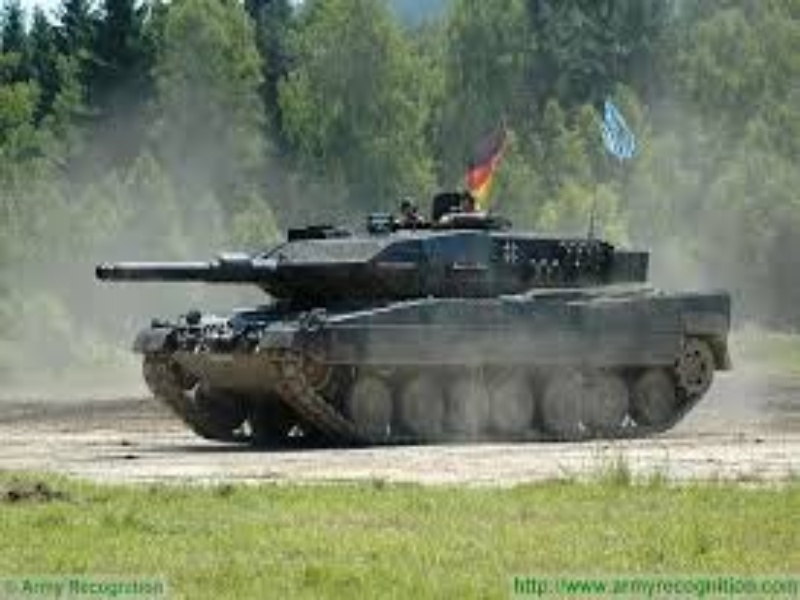tank: (91, 189, 736, 444)
